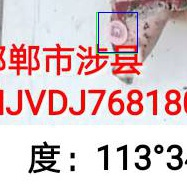text: (96, 12, 137, 53)
